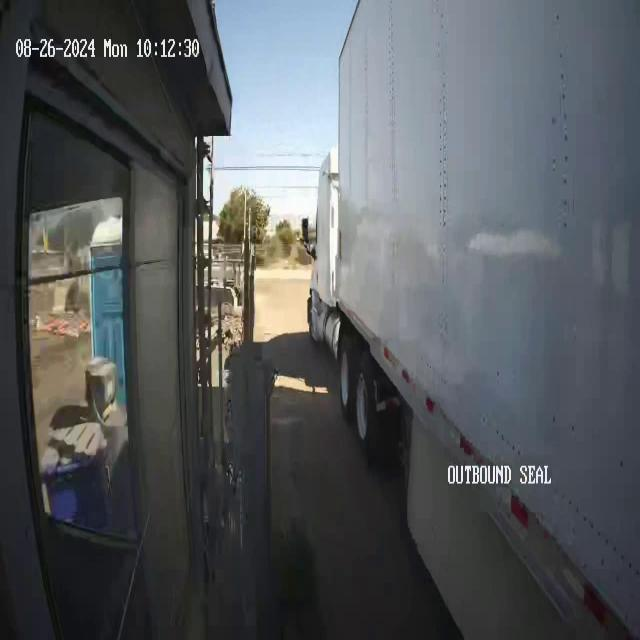TRUCK_OUT: (309, 1, 639, 637)
